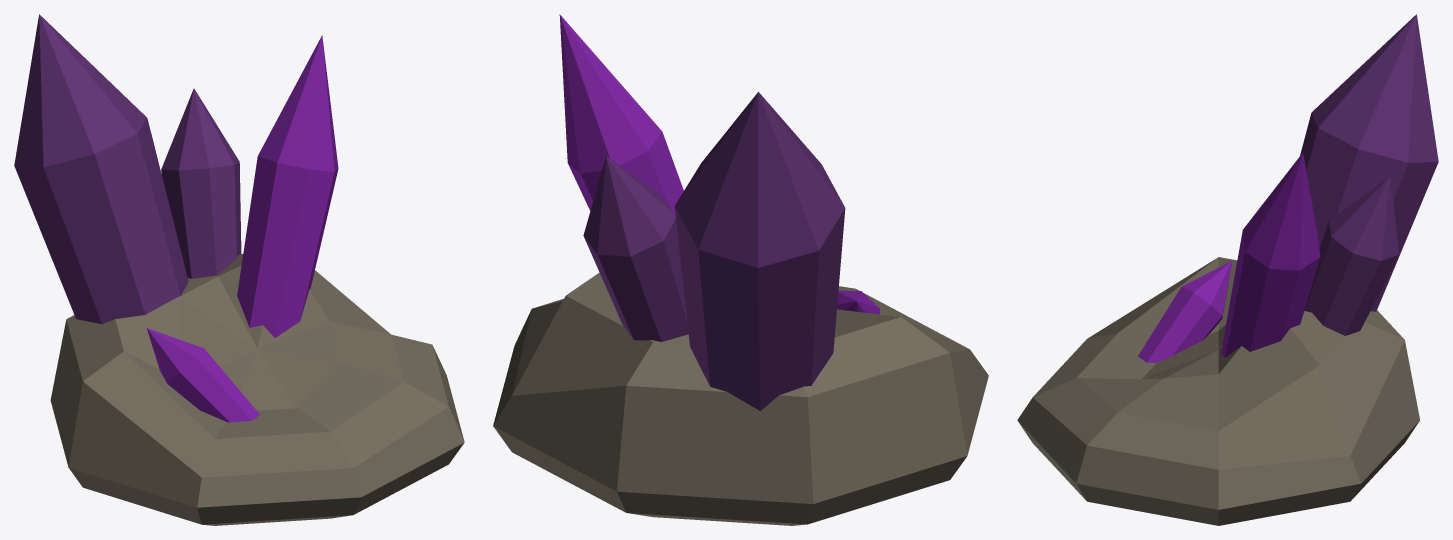
Rendered from Cristal 4.fbx.
3 renders of one model, left to right at view 1: azimuth 30°, elevation 25°; view 2: azimuth 150°, elevation 25°; view 3: azimuth 270°, elevation 25°, orthographic. The views are drawn at different scales.
Visible parts, largest first — view 1: Sphere; view 2: Sphere; view 3: Sphere.
Part boxes in pixels (box(x1,y1,x2,y2)): Sphere: box(14, 14, 464, 525); Sphere: box(493, 14, 988, 525); Sphere: box(1017, 14, 1438, 525).
Bounding box in the file's own units: 22.89 × 23.69 × 22.73.
